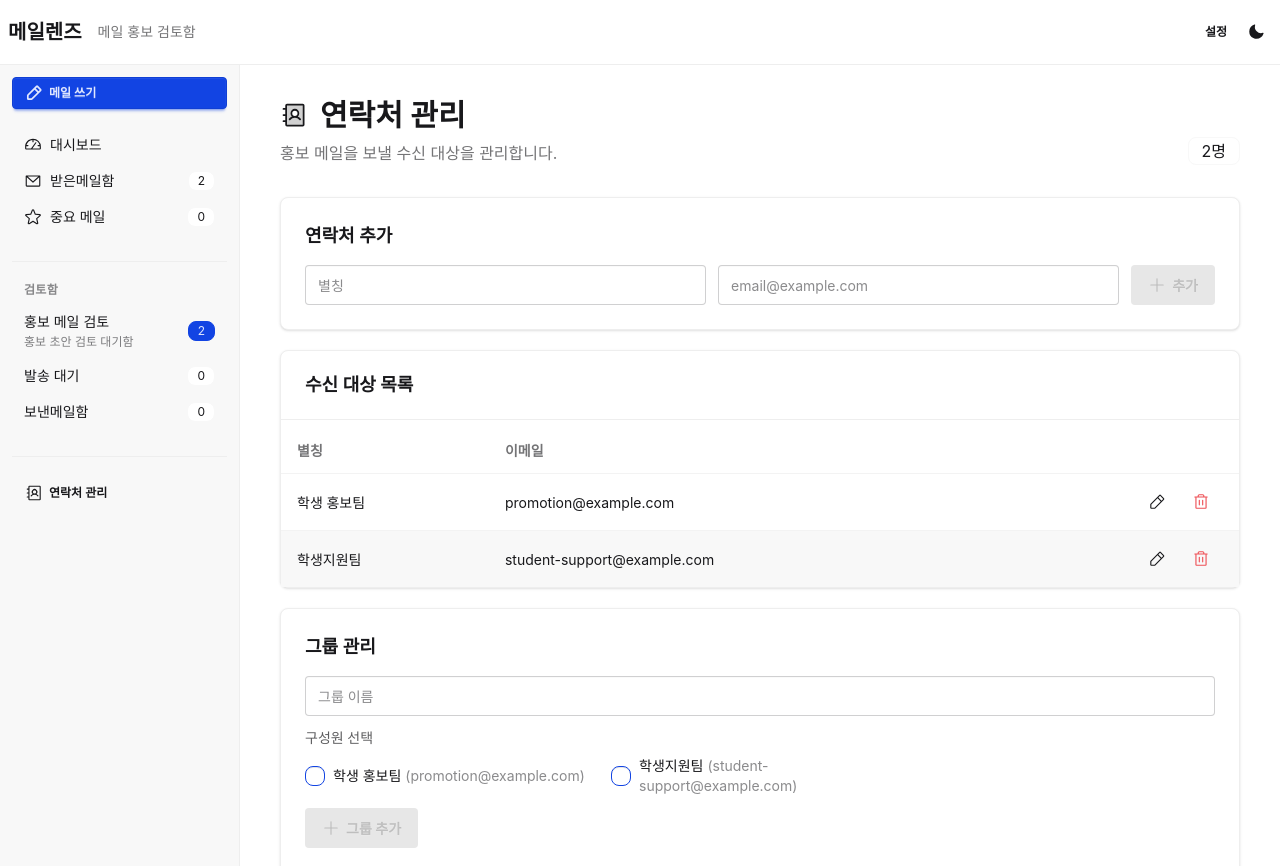
Scenario: creates a contact and renders it in the contact list
In the field labelled "별칭": (506, 285) [305,265,706,305], type "민수"
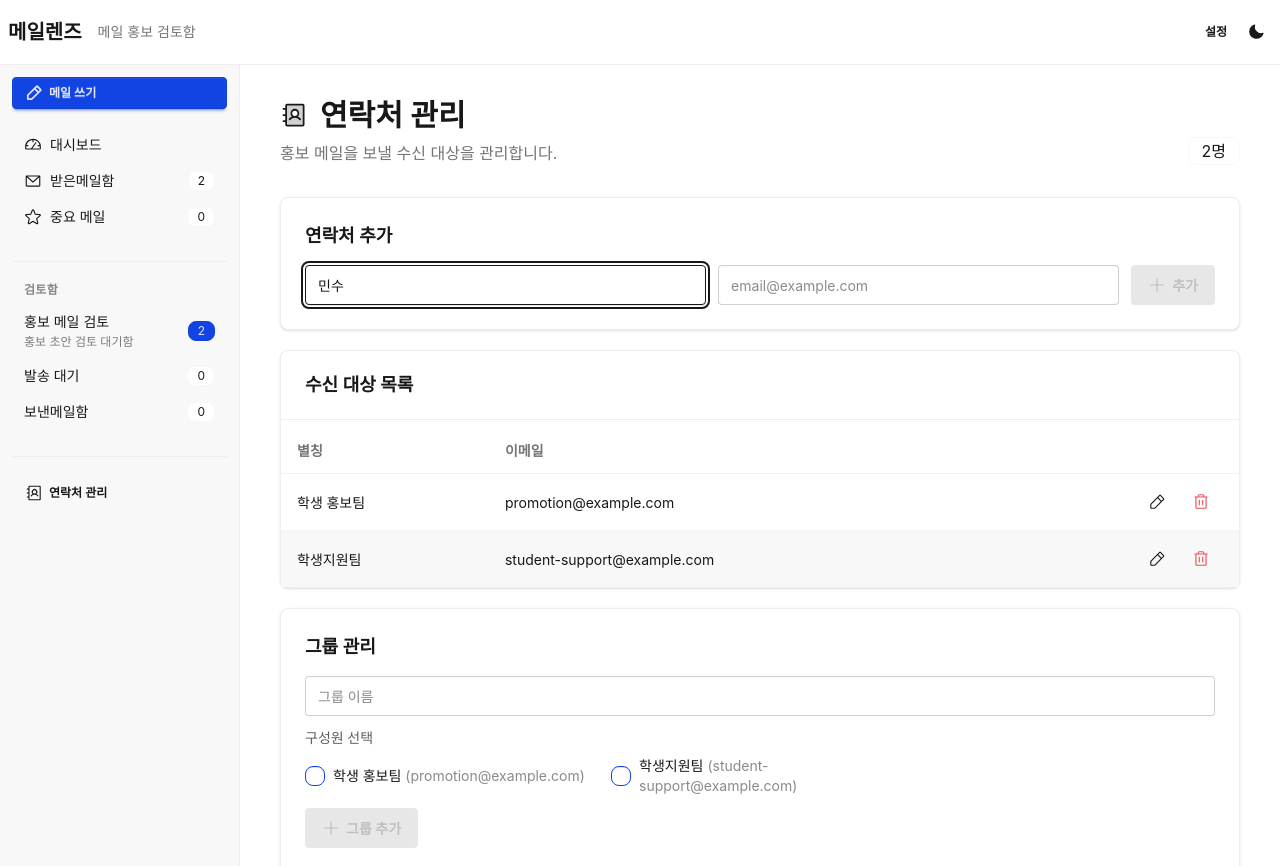
In the field named "이메일": (919, 285) [718,265,1119,305], type "minsu@example.com"
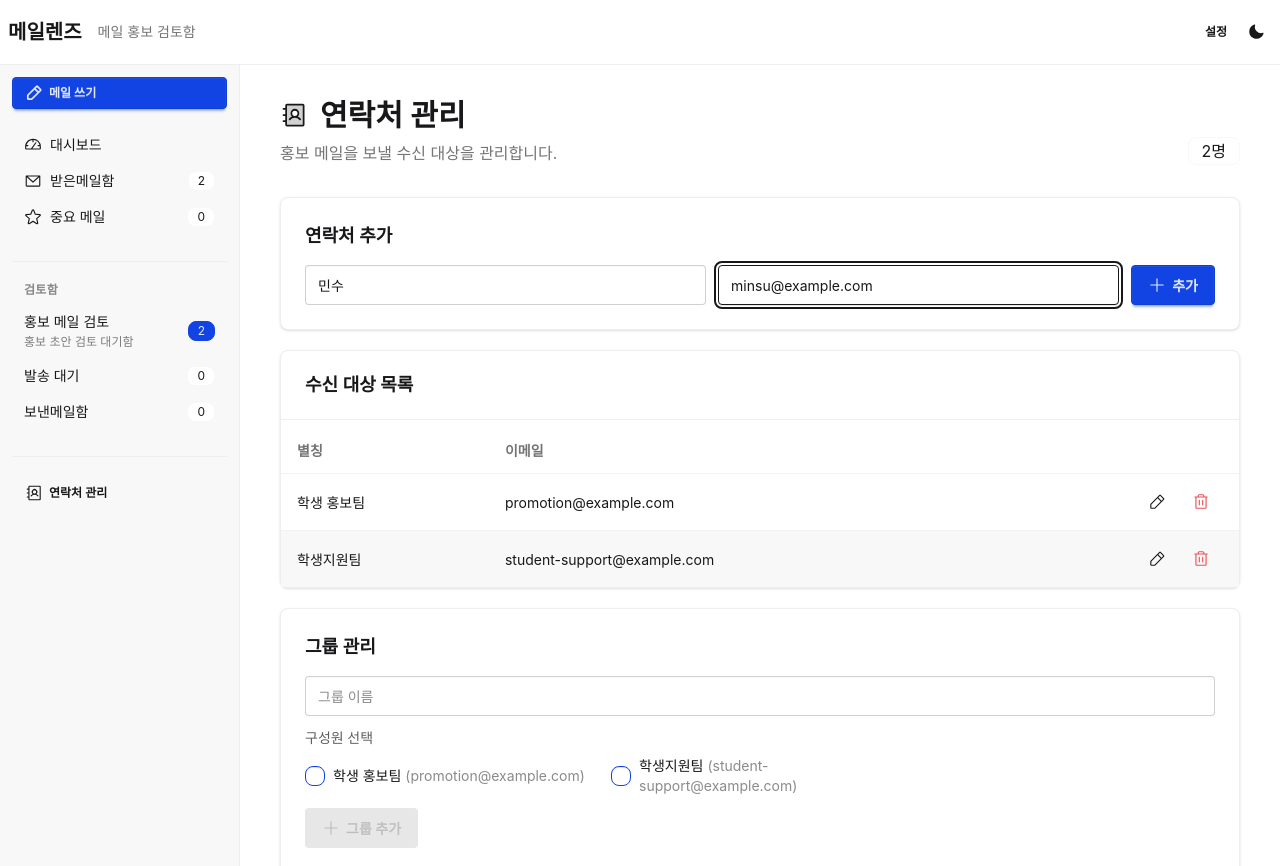
Click the button "추가": (1173, 285) [1131,265,1215,305]
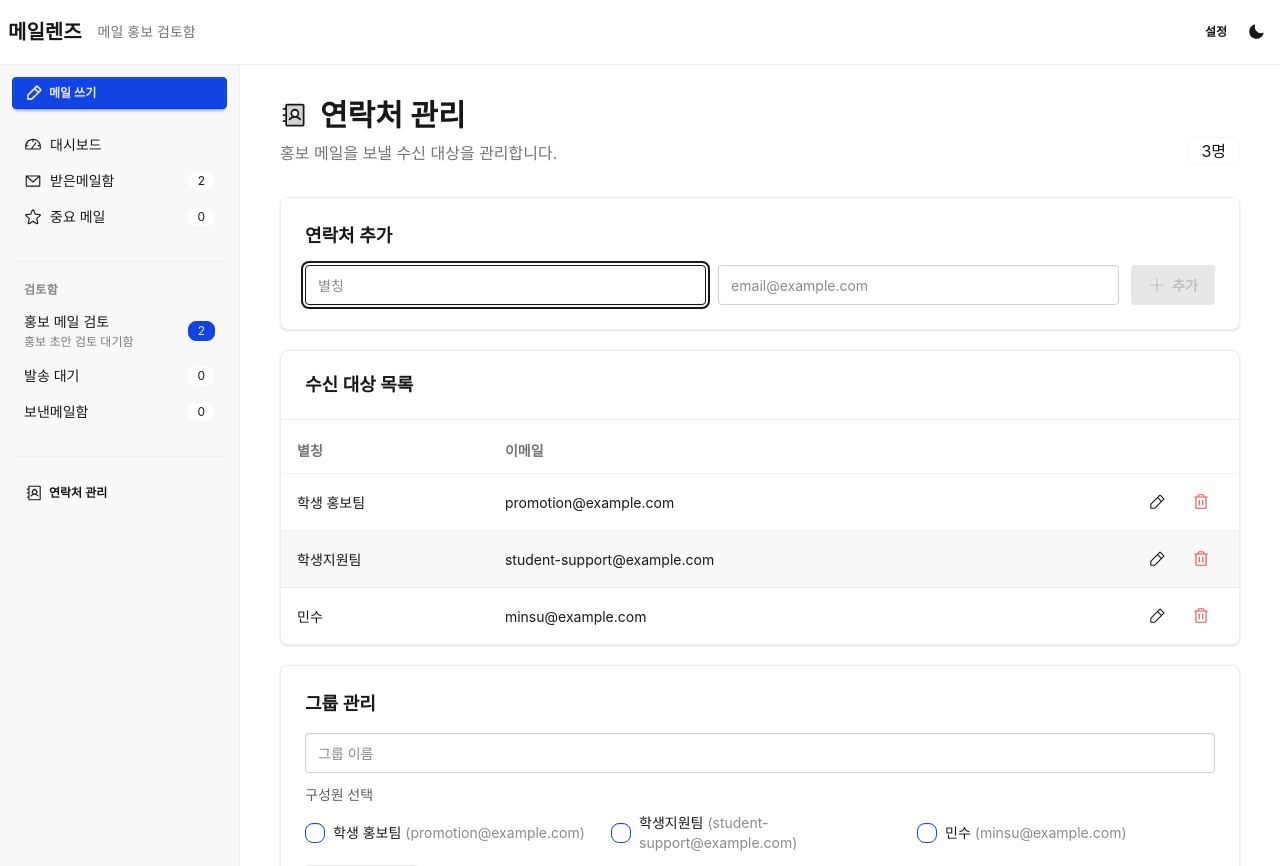
Expected: the cell "민수" is shown, [281,588,489,644]
Expected: the cell "minsu@example.com" is shown, [489,588,990,644]
